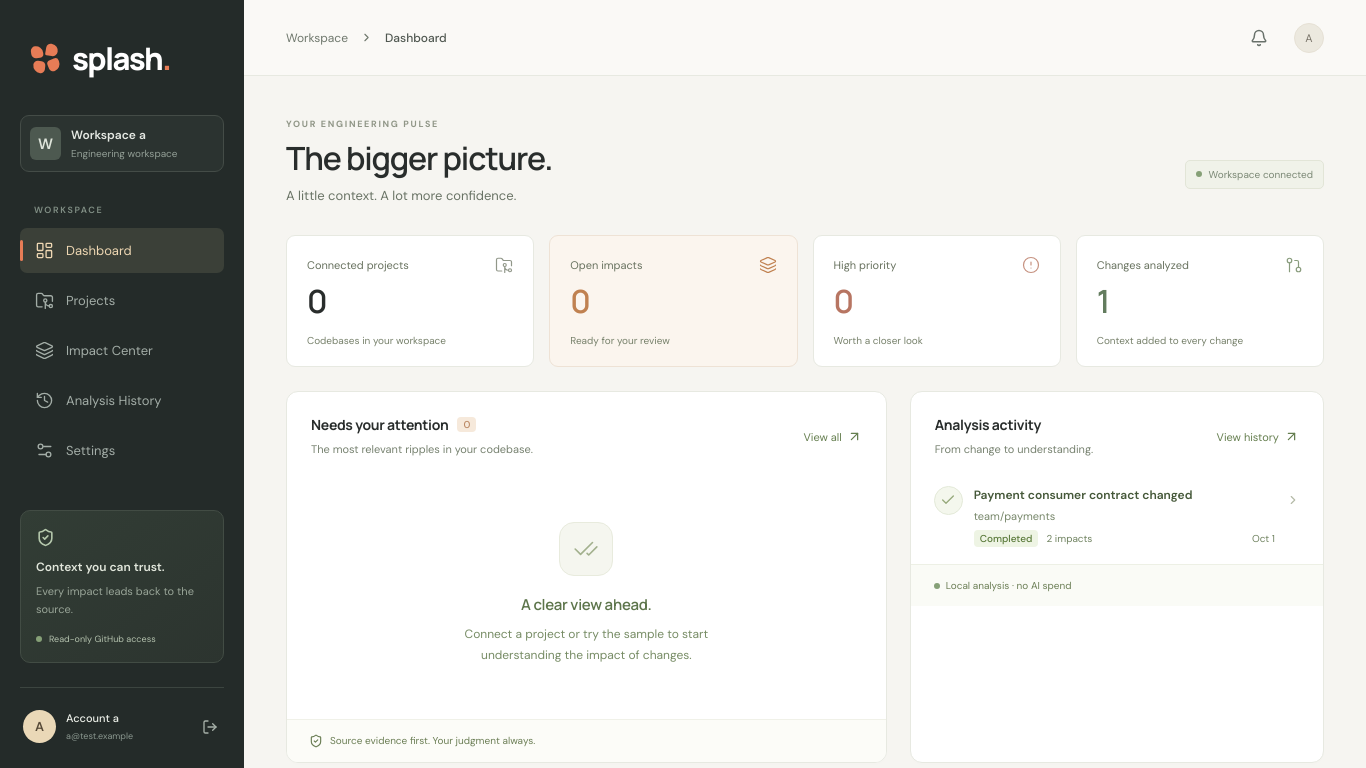
Test: Run details › does not reopen a slow run detail after navigating to Analysis History
This screenshot has width=1366, height=768.
What coordinates should you click on to do the following:
click the button "Payment consumer contract changed"
I would click on:
 (1083, 495)
Its box is x1=934 y1=478 x2=1300 y2=564.
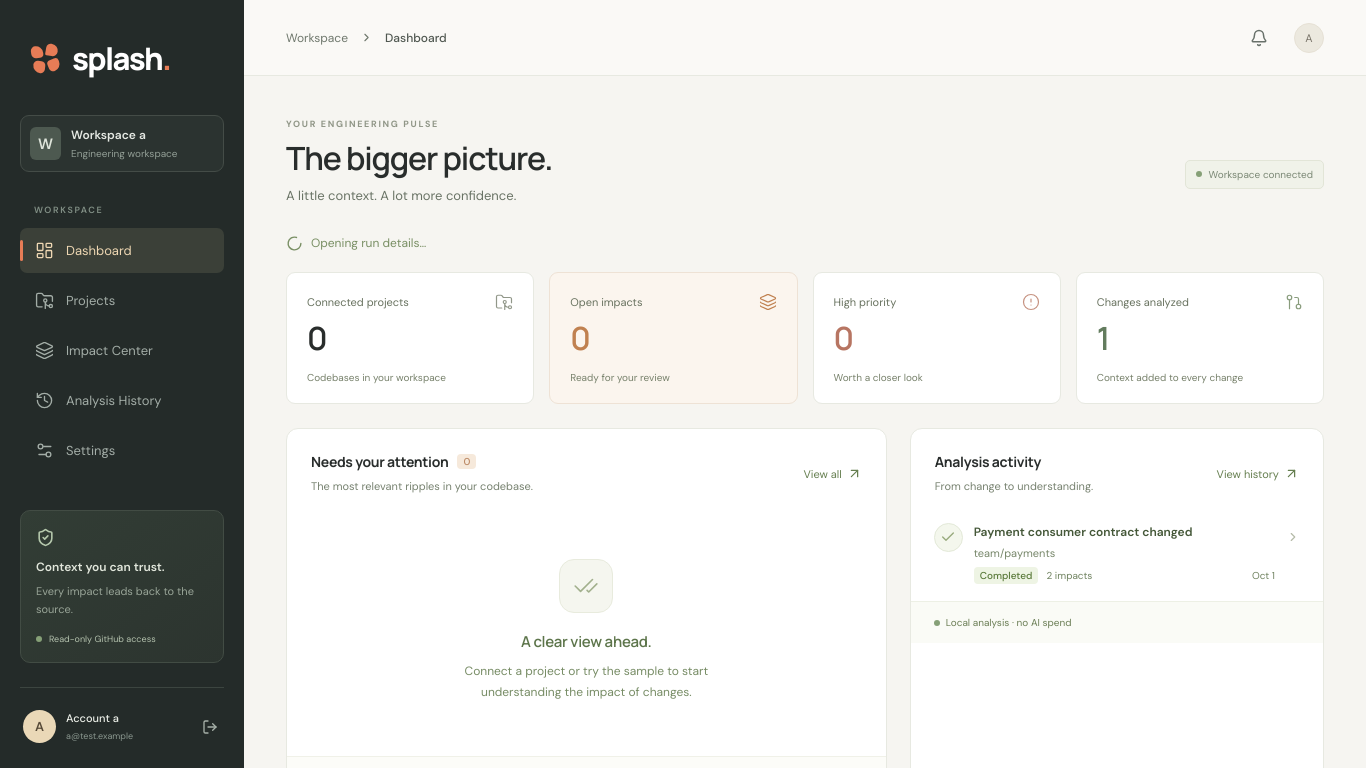
What coordinates should you click on to do the following:
click the button "Analysis History"
I would click on:
 (122, 400)
Its box is x1=20 y1=378 x2=224 y2=423.
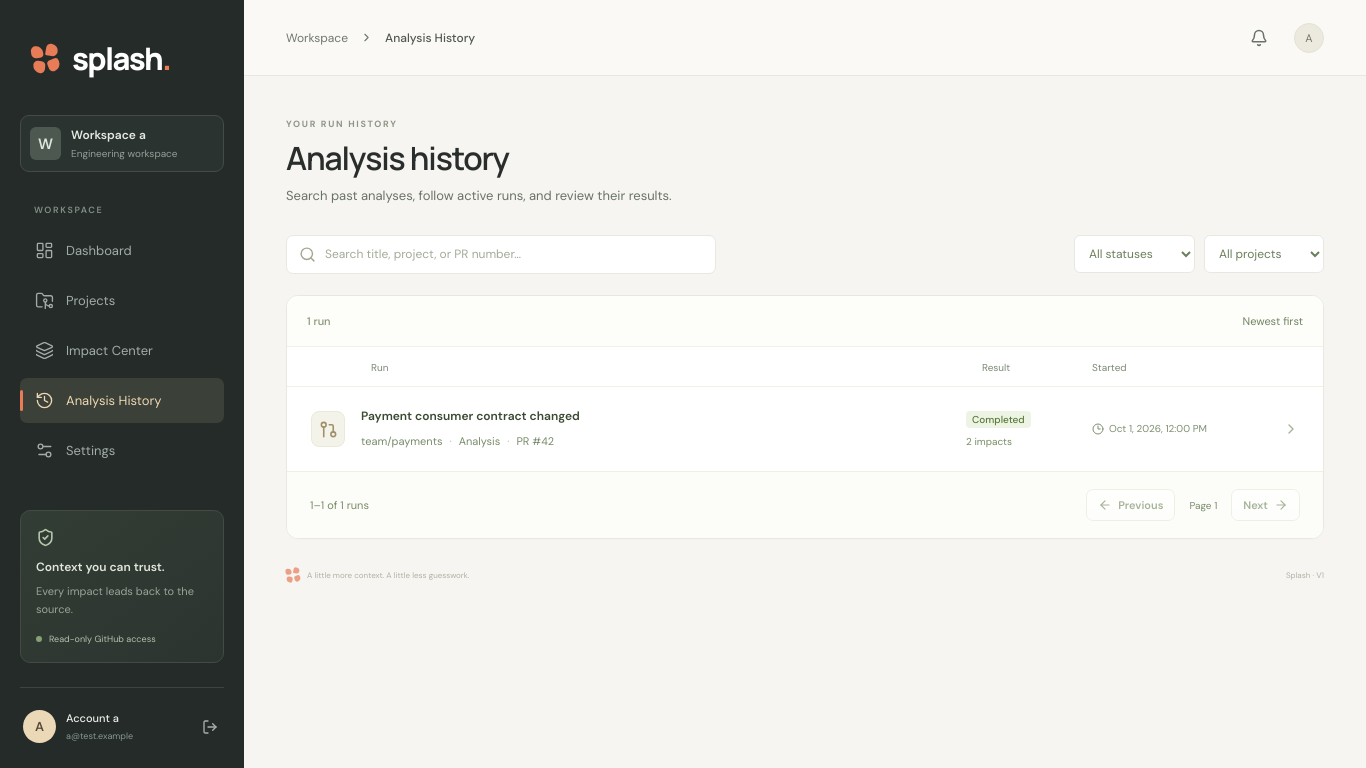
Expected: the heading "Analysis history" is shown, x1=286 y1=136 x2=509 y2=180
